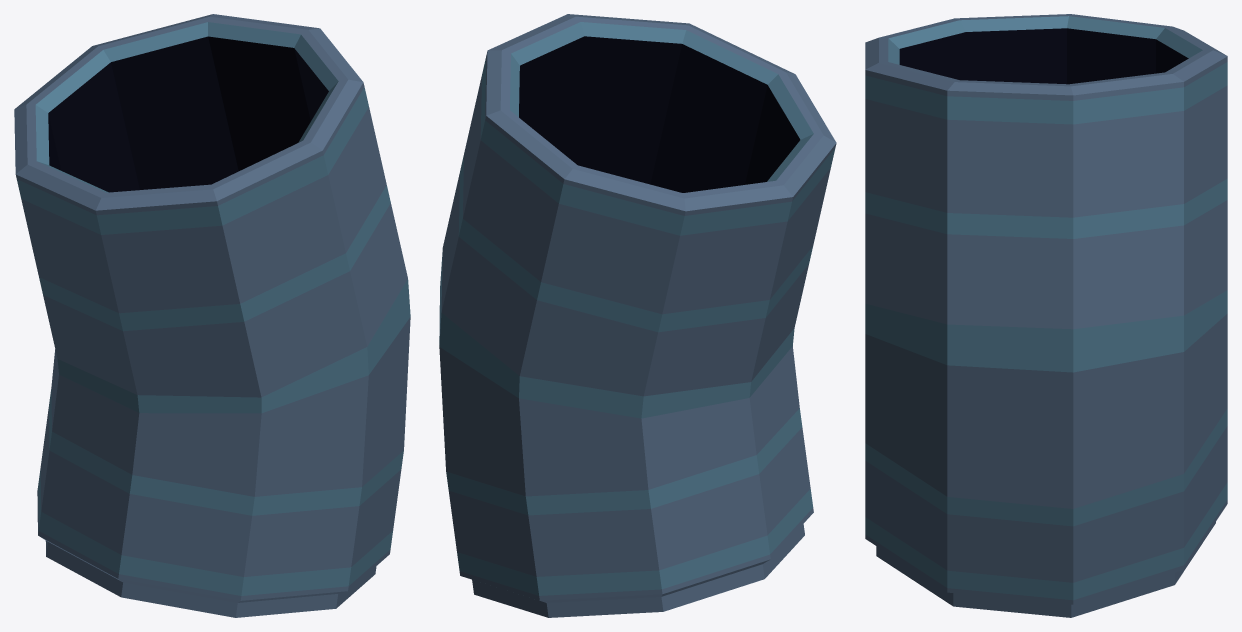
The model's file is Can.Scrunched.fbx.
The picture shows the model from 3 angles, left to right: view 1: azimuth 30°, elevation 25°; view 2: azimuth 150°, elevation 25°; view 3: azimuth 270°, elevation 25°; orthographic projection. The views are drawn at different scales.
Visible parts, largest first — view 1: Can.Scrunched; view 2: Can.Scrunched; view 3: Can.Scrunched.
Part boxes in pixels (x1,y1,x2,y2): Can.Scrunched: [14, 14, 410, 617]; Can.Scrunched: [439, 14, 836, 617]; Can.Scrunched: [865, 14, 1227, 617].
Size of the model in its own units: 71.27 by 98.16 by 62.26.
